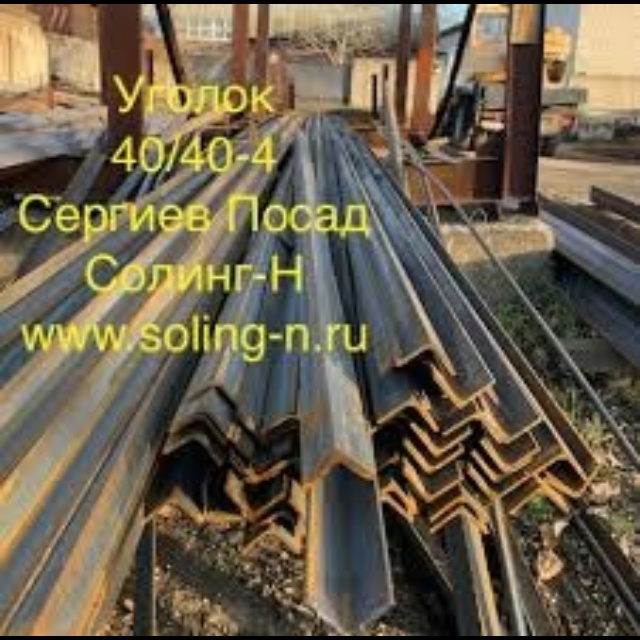Angle: (310, 605, 392, 633), (306, 456, 372, 487), (437, 374, 492, 406), (398, 346, 454, 373), (378, 403, 435, 429), (406, 442, 455, 471), (226, 491, 280, 516), (405, 470, 456, 496), (549, 468, 598, 495), (509, 491, 566, 514), (414, 431, 467, 454), (484, 445, 537, 467), (243, 530, 297, 551), (535, 455, 585, 477), (434, 511, 486, 532), (436, 496, 488, 517), (446, 415, 495, 436), (189, 383, 233, 405), (149, 500, 197, 520), (171, 418, 217, 438)
